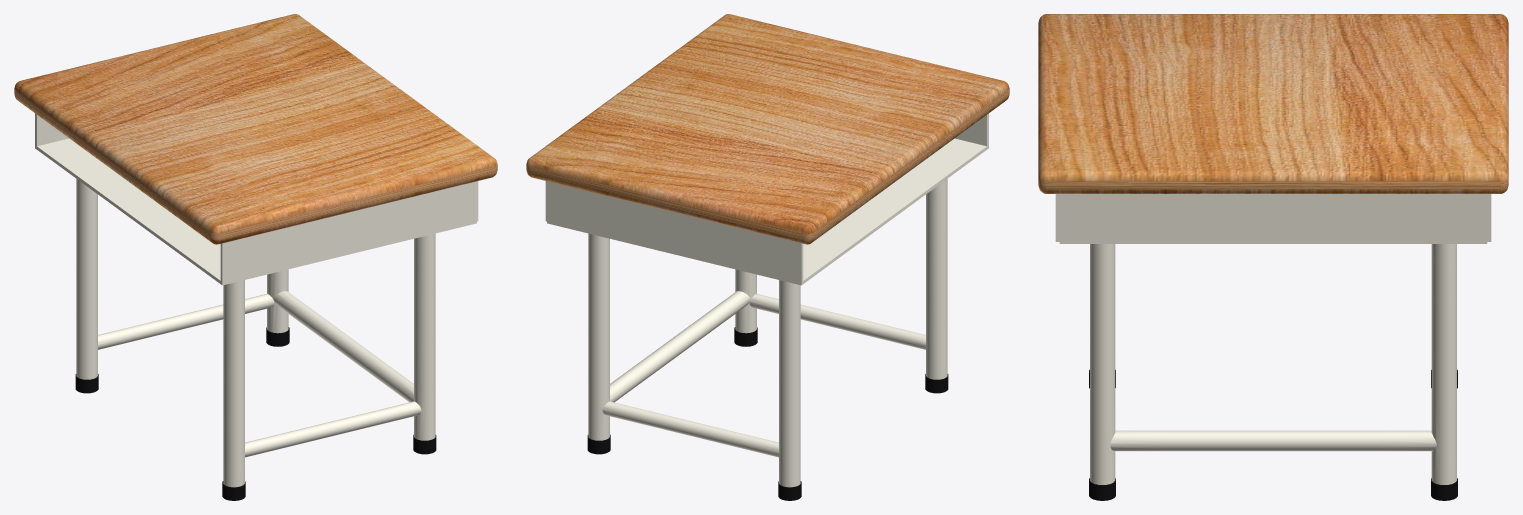
File: desk.fbx
3 views of the same model, side by side, from view 1: azimuth 30°, elevation 25°; view 2: azimuth 150°, elevation 25°; view 3: azimuth 270°, elevation 25° (orthographic). The views are drawn at different scales.
Visible parts, largest first — view 1: 桌面, Box004; view 2: 桌面, Box004; view 3: 桌面, Box004.
Part boxes in pixels (x1=…): 桌面: x1=14, y1=14, x2=497, y2=244; Box004: x1=35, y1=113, x2=478, y2=487; 桌面: x1=526, y1=14, x2=1009, y2=244; Box004: x1=545, y1=113, x2=988, y2=487; 桌面: x1=1038, y1=14, x2=1508, y2=193; Box004: x1=1055, y1=194, x2=1491, y2=484.
Bounding box in the file's own units: 45 × 45 × 55.
Materials: 3 (1 with a texture image).
